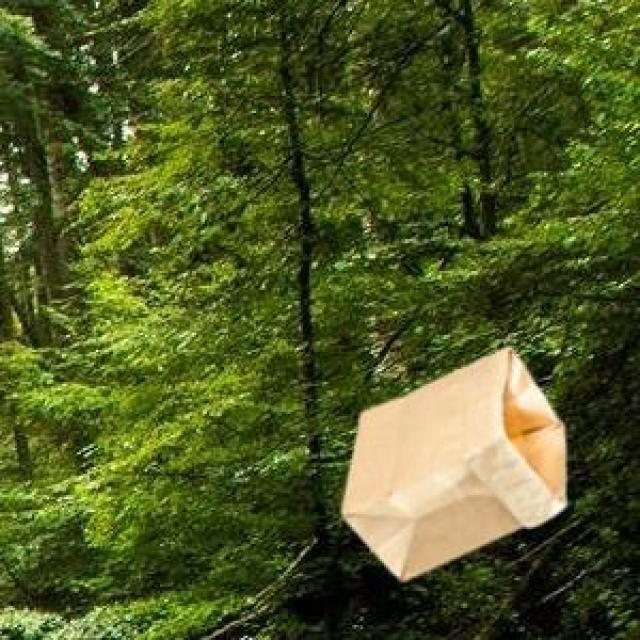paper: (337, 344, 561, 576)
